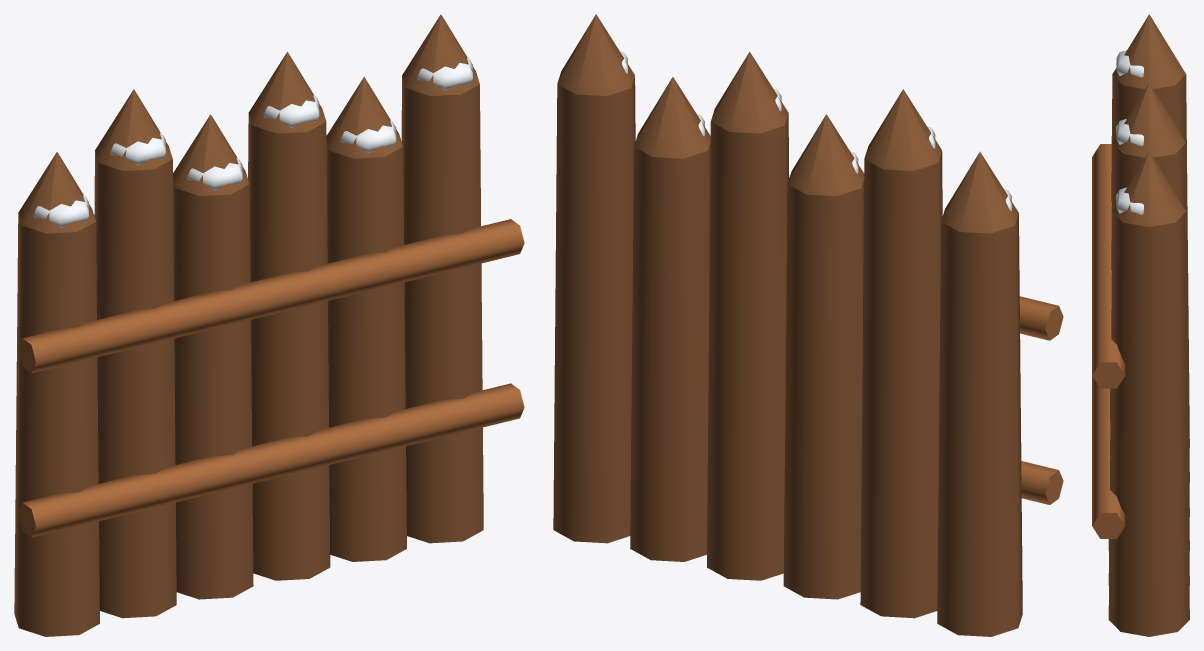
Rendered from fence_segment.glb.
The picture shows the model from 3 angles, left to right: view 1: azimuth 30°, elevation 25°; view 2: azimuth 150°, elevation 25°; view 3: azimuth 270°, elevation 25°; orthographic projection. The views are drawn at different scales.
Visible parts, largest first — view 1: fence_segment; view 2: fence_segment; view 3: fence_segment.
Part boxes in pixels (x1,y1,x2,y2): fence_segment: (14, 14, 524, 636); fence_segment: (553, 14, 1063, 636); fence_segment: (1092, 14, 1189, 636).
Bounding box in the file's own units: 1.4 × 1.4 × 0.265.
